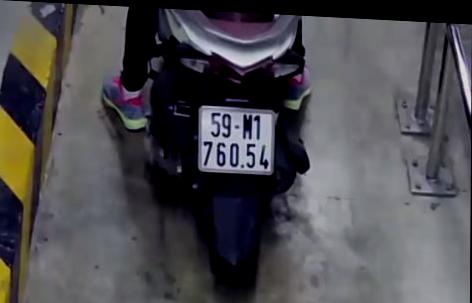License_Plate: (193, 100, 280, 182)
